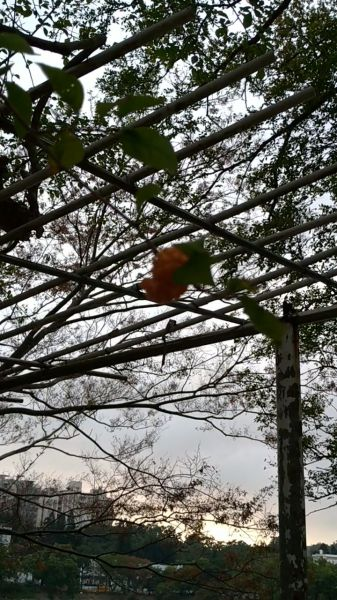eggs: (137, 238, 197, 307)
